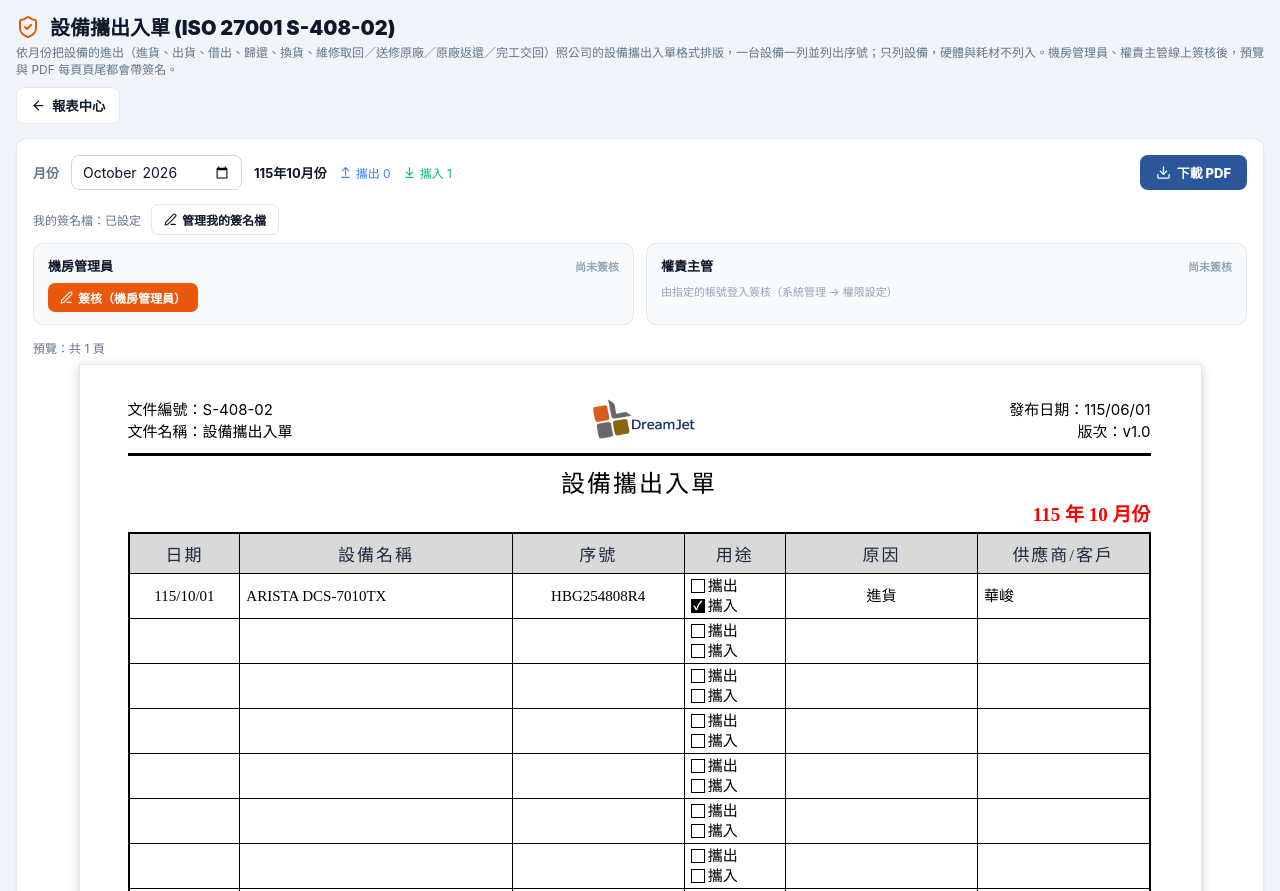
Test case: 個人簽名檔 › 管理我的簽名檔：手寫或上傳後儲存、刪除
This screenshot has width=1280, height=891.
Click the button "管理我的簽名檔". click: coordinates (215, 220)
box: x1=151 y1=204 x2=279 y2=235
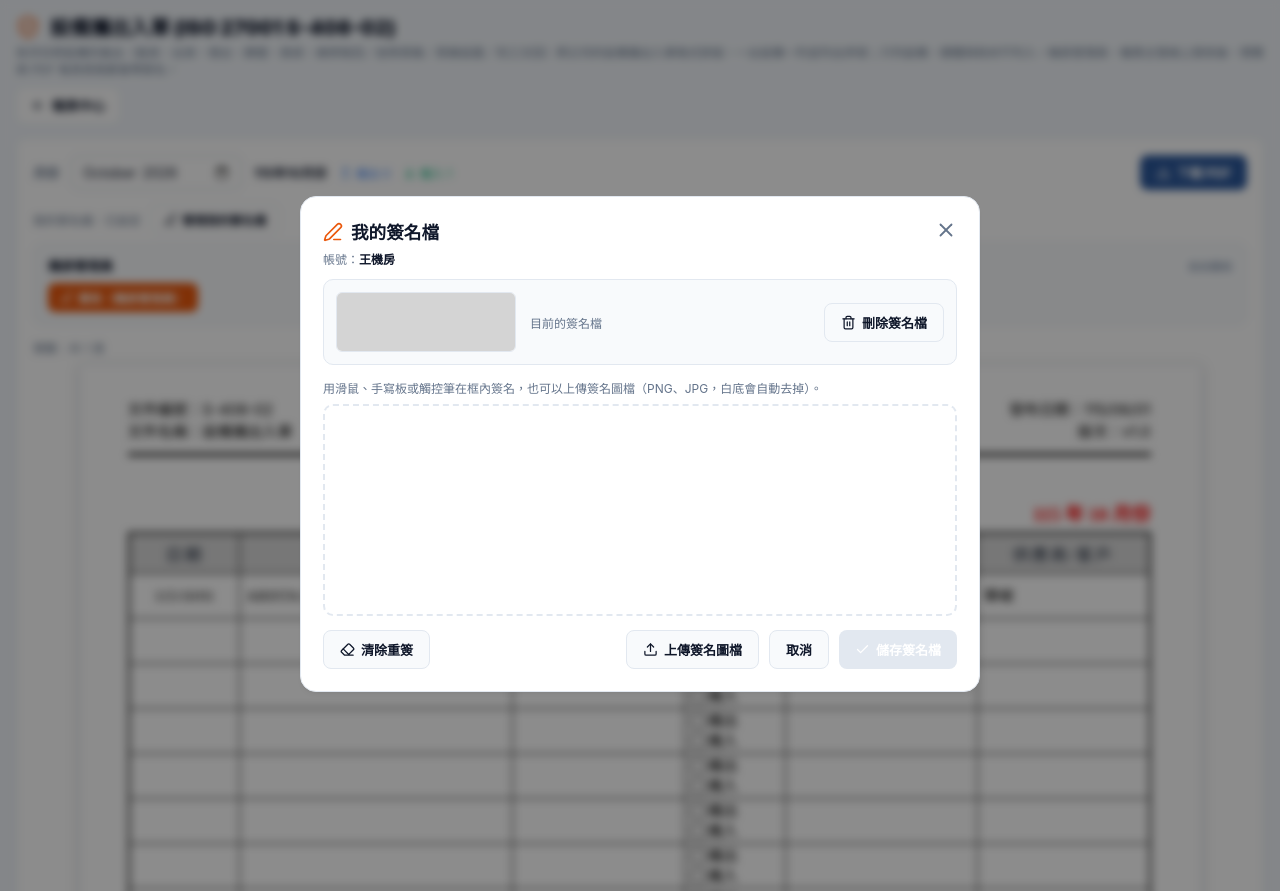
Press the mouse on the drawing named "簽名板" at coordinates (640, 510), box x1=323 y1=404 x2=957 y2=616
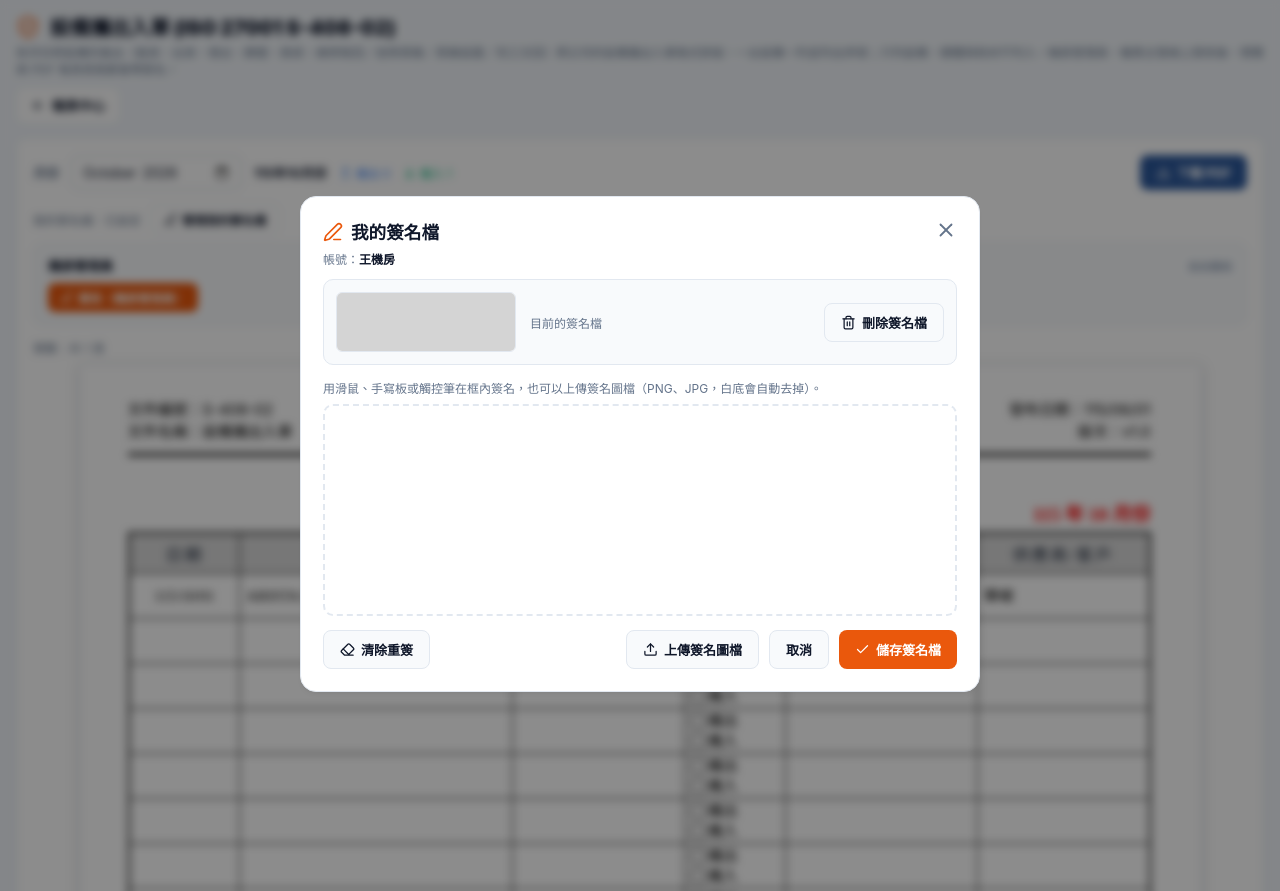
Click the button "儲存簽名檔". click: coordinates (898, 649)
box: x1=839 y1=630 x2=957 y2=669
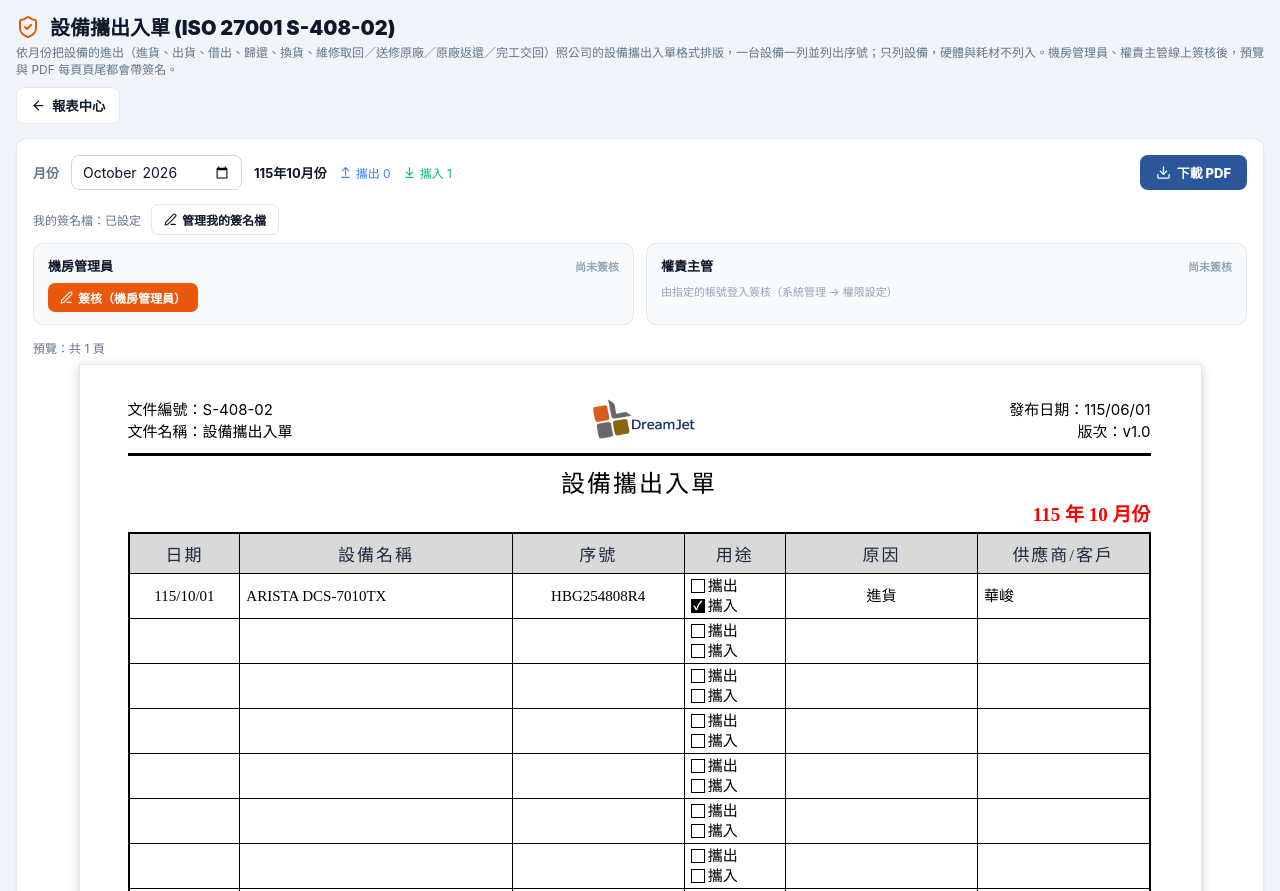
Now the dialog is gone
Click the button "管理我的簽名檔". click: coordinates (215, 220)
box: x1=151 y1=204 x2=279 y2=235
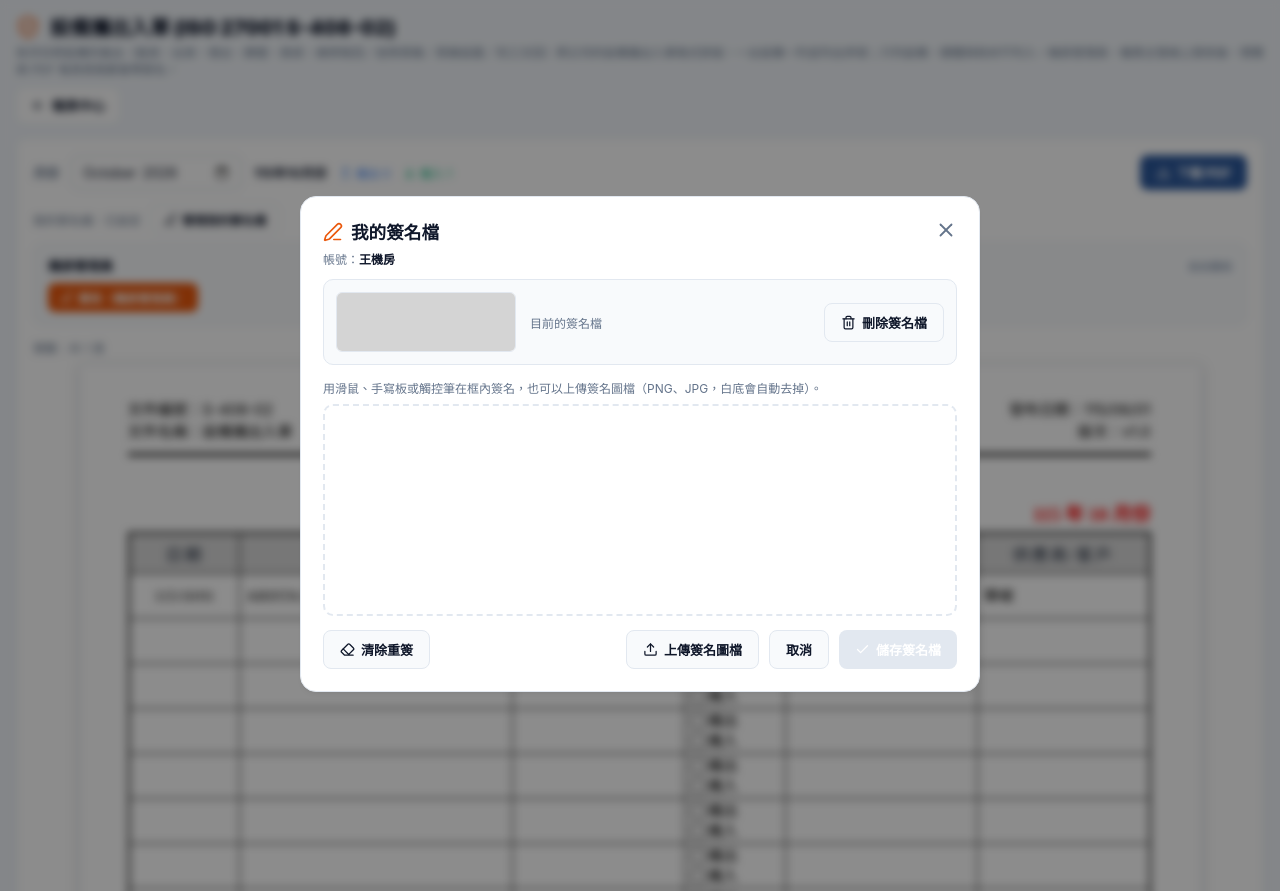
Click the button "刪除簽名檔". click: coordinates (884, 322)
box: x1=824 y1=303 x2=944 y2=342
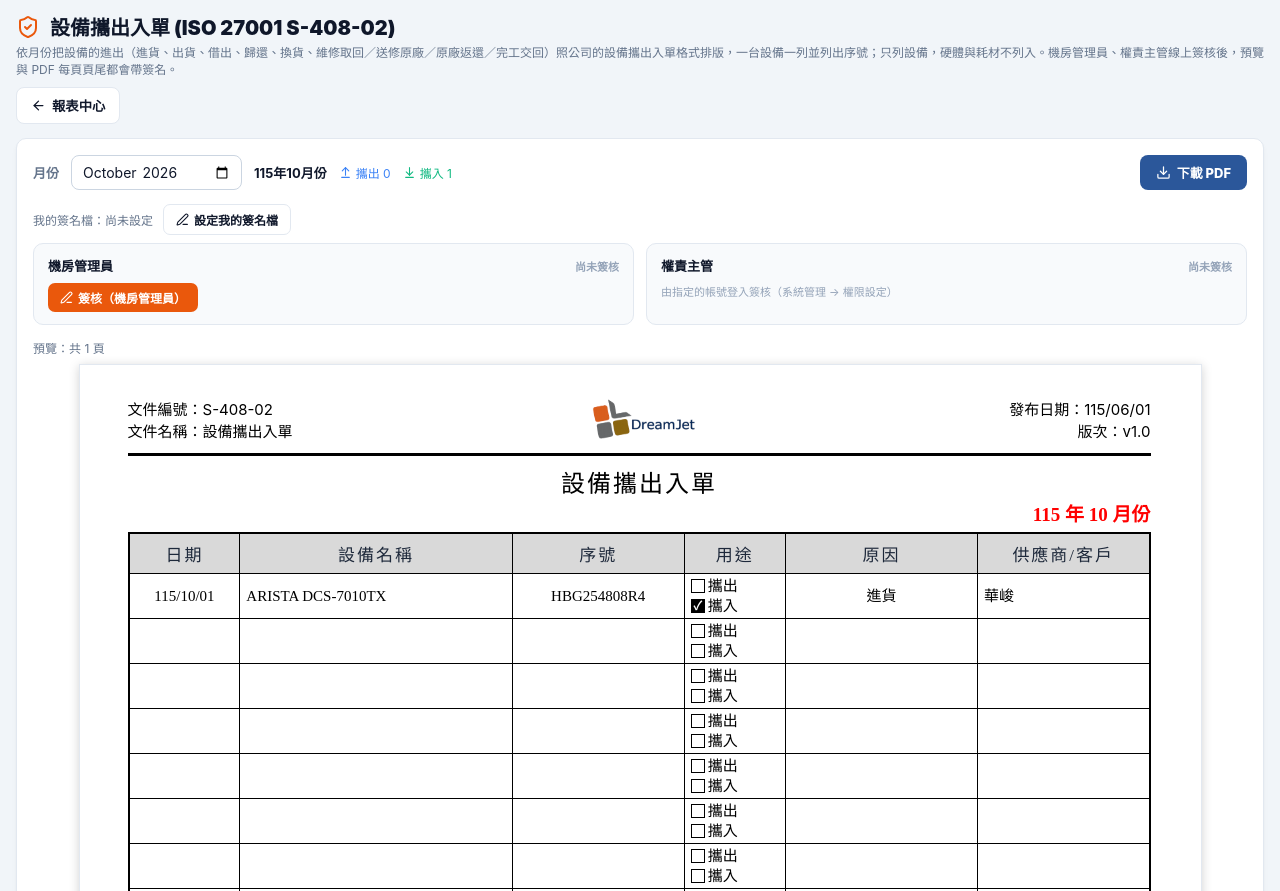
Now the text "我的簽名檔：尚未設定" is shown, box x1=33 y1=211 x2=153 y2=228
